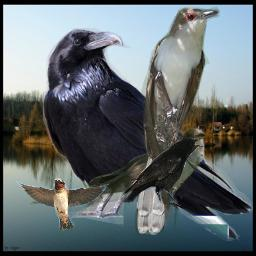Crow: (43, 28, 253, 241), (121, 136, 205, 208)
Cuckoo: (134, 4, 220, 235), (27, 126, 205, 208)
Swallow: (15, 178, 109, 231)
